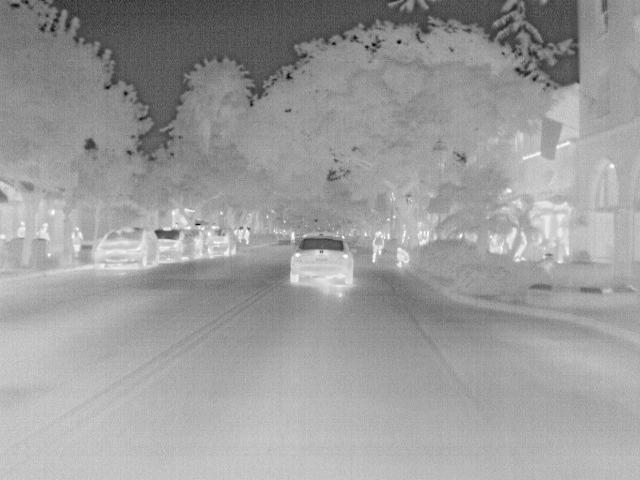car: (289, 234, 354, 286), (92, 227, 158, 271), (157, 229, 197, 263), (206, 226, 238, 258)
person: (370, 233, 388, 266), (69, 225, 84, 257), (36, 221, 54, 246), (14, 219, 29, 241), (395, 248, 411, 268)
